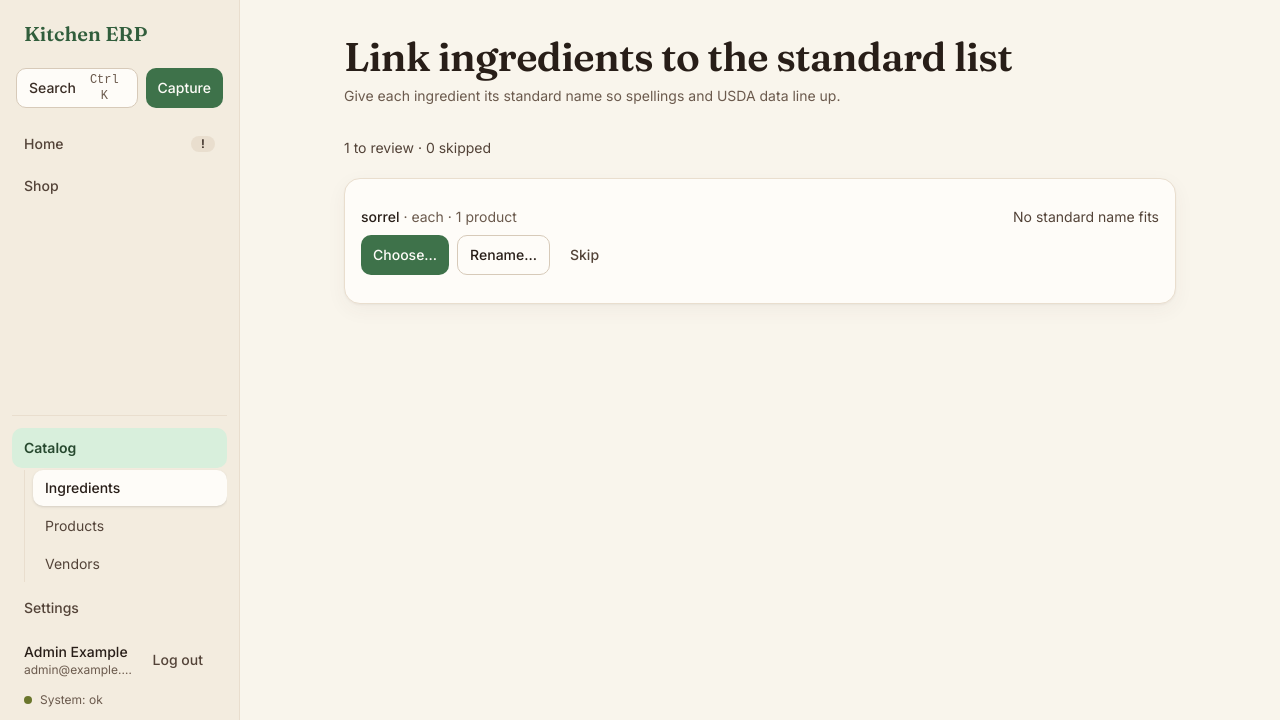
Test: link page (1G) › renames inline and shows a failed action inside its row with the input kept
Click the button "Rename…" at (504, 255), box left=457, top=235, right=550, bottom=275
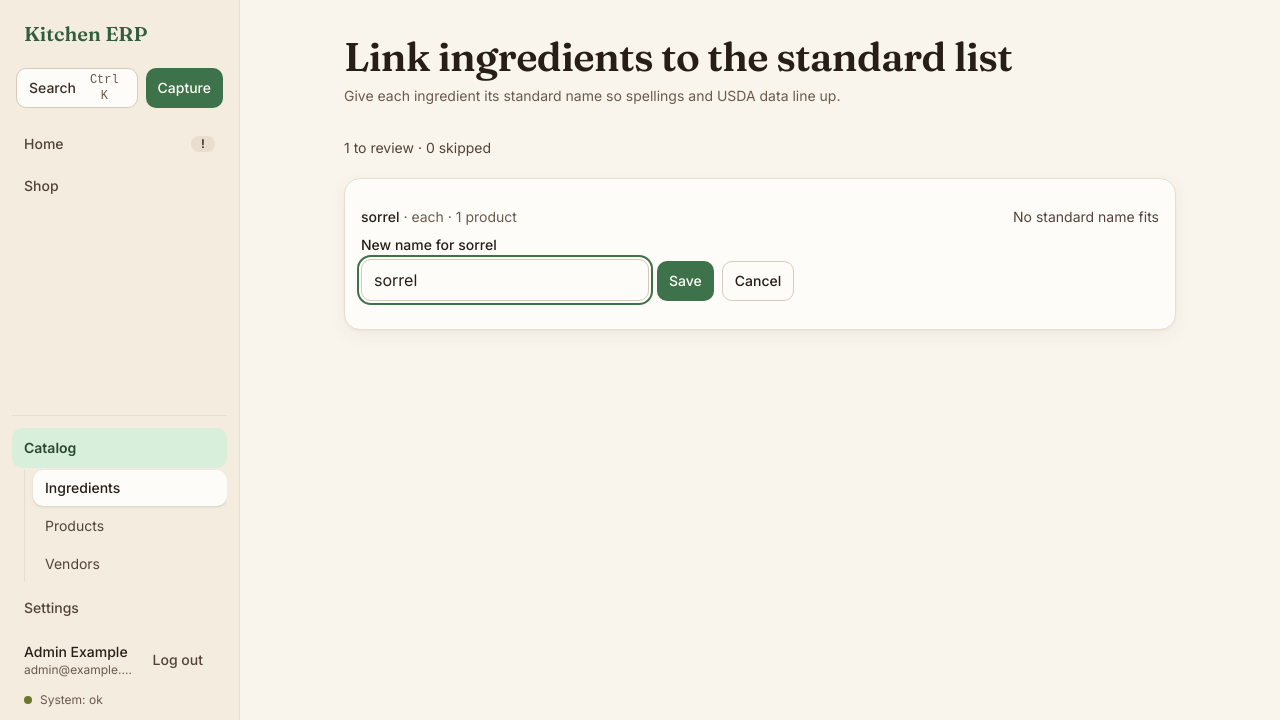
Replace the text in the field labelled "New name for sorrel" with "wood sorrel" at (505, 280), box left=361, top=259, right=649, bottom=301
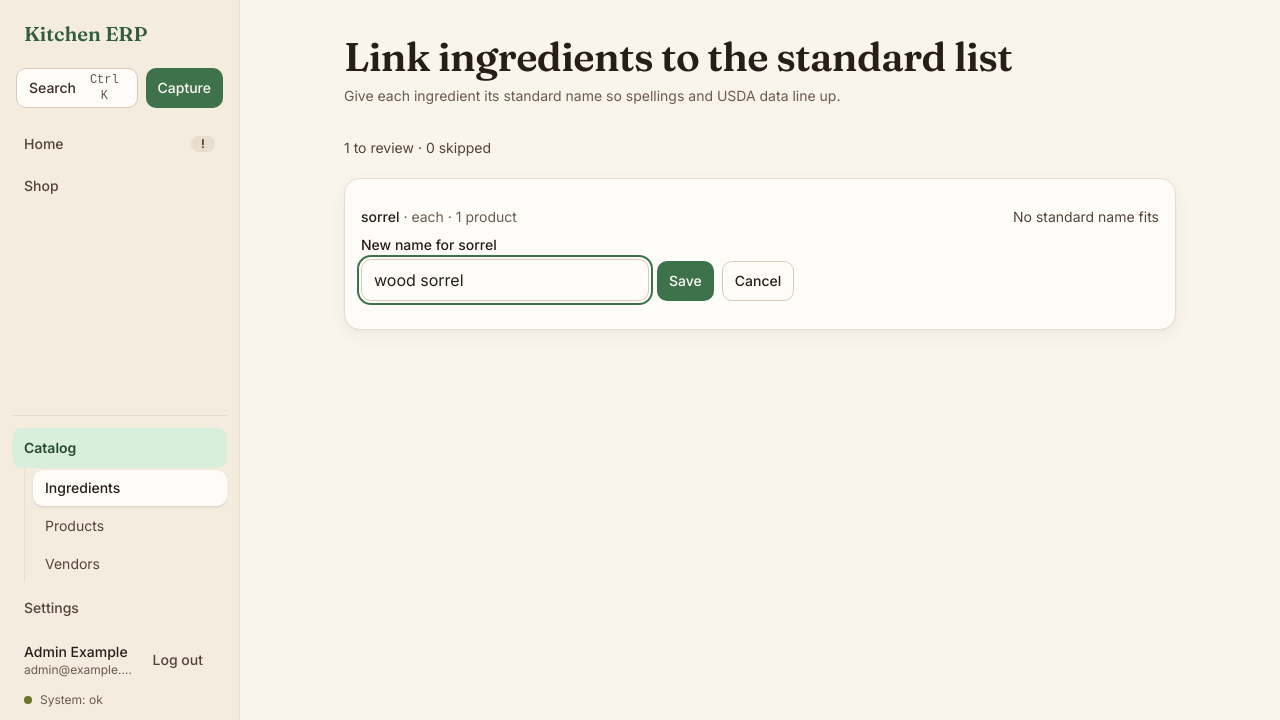
Click the button "Save" at (685, 281), box left=657, top=261, right=714, bottom=301
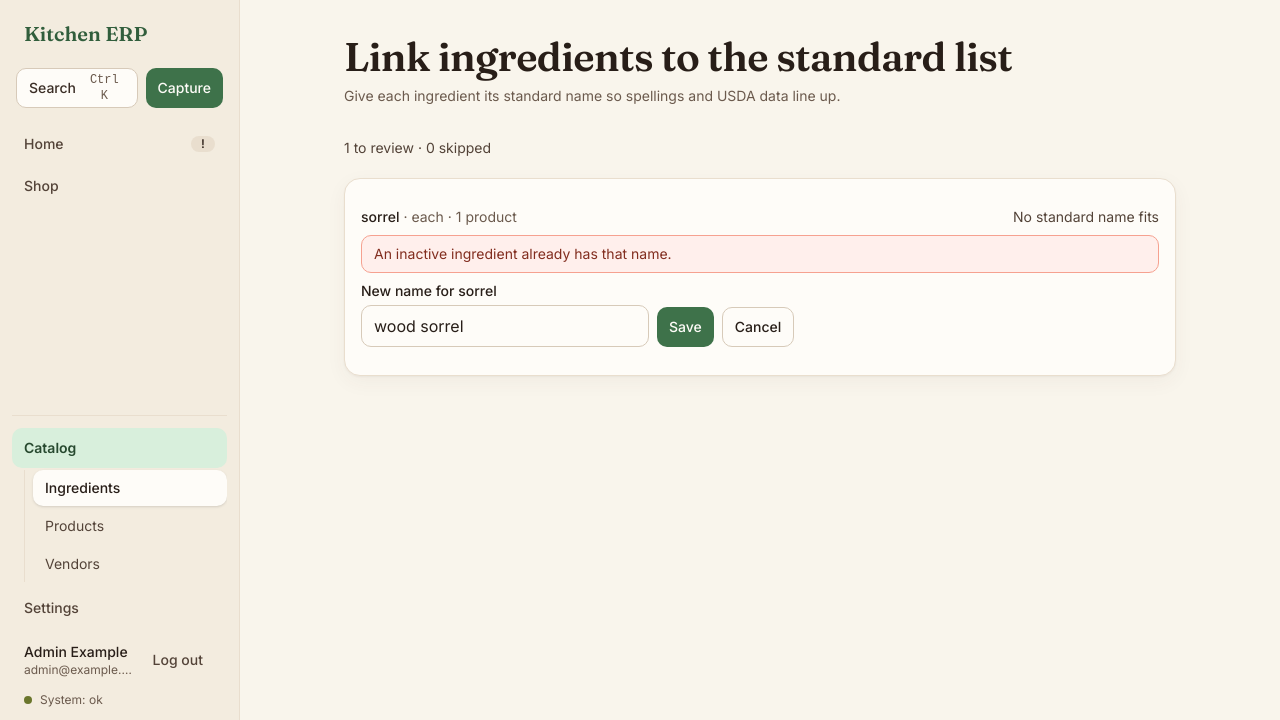
Check: the text "An inactive ingredient already has that name." is shown, box left=361, top=235, right=1159, bottom=273
